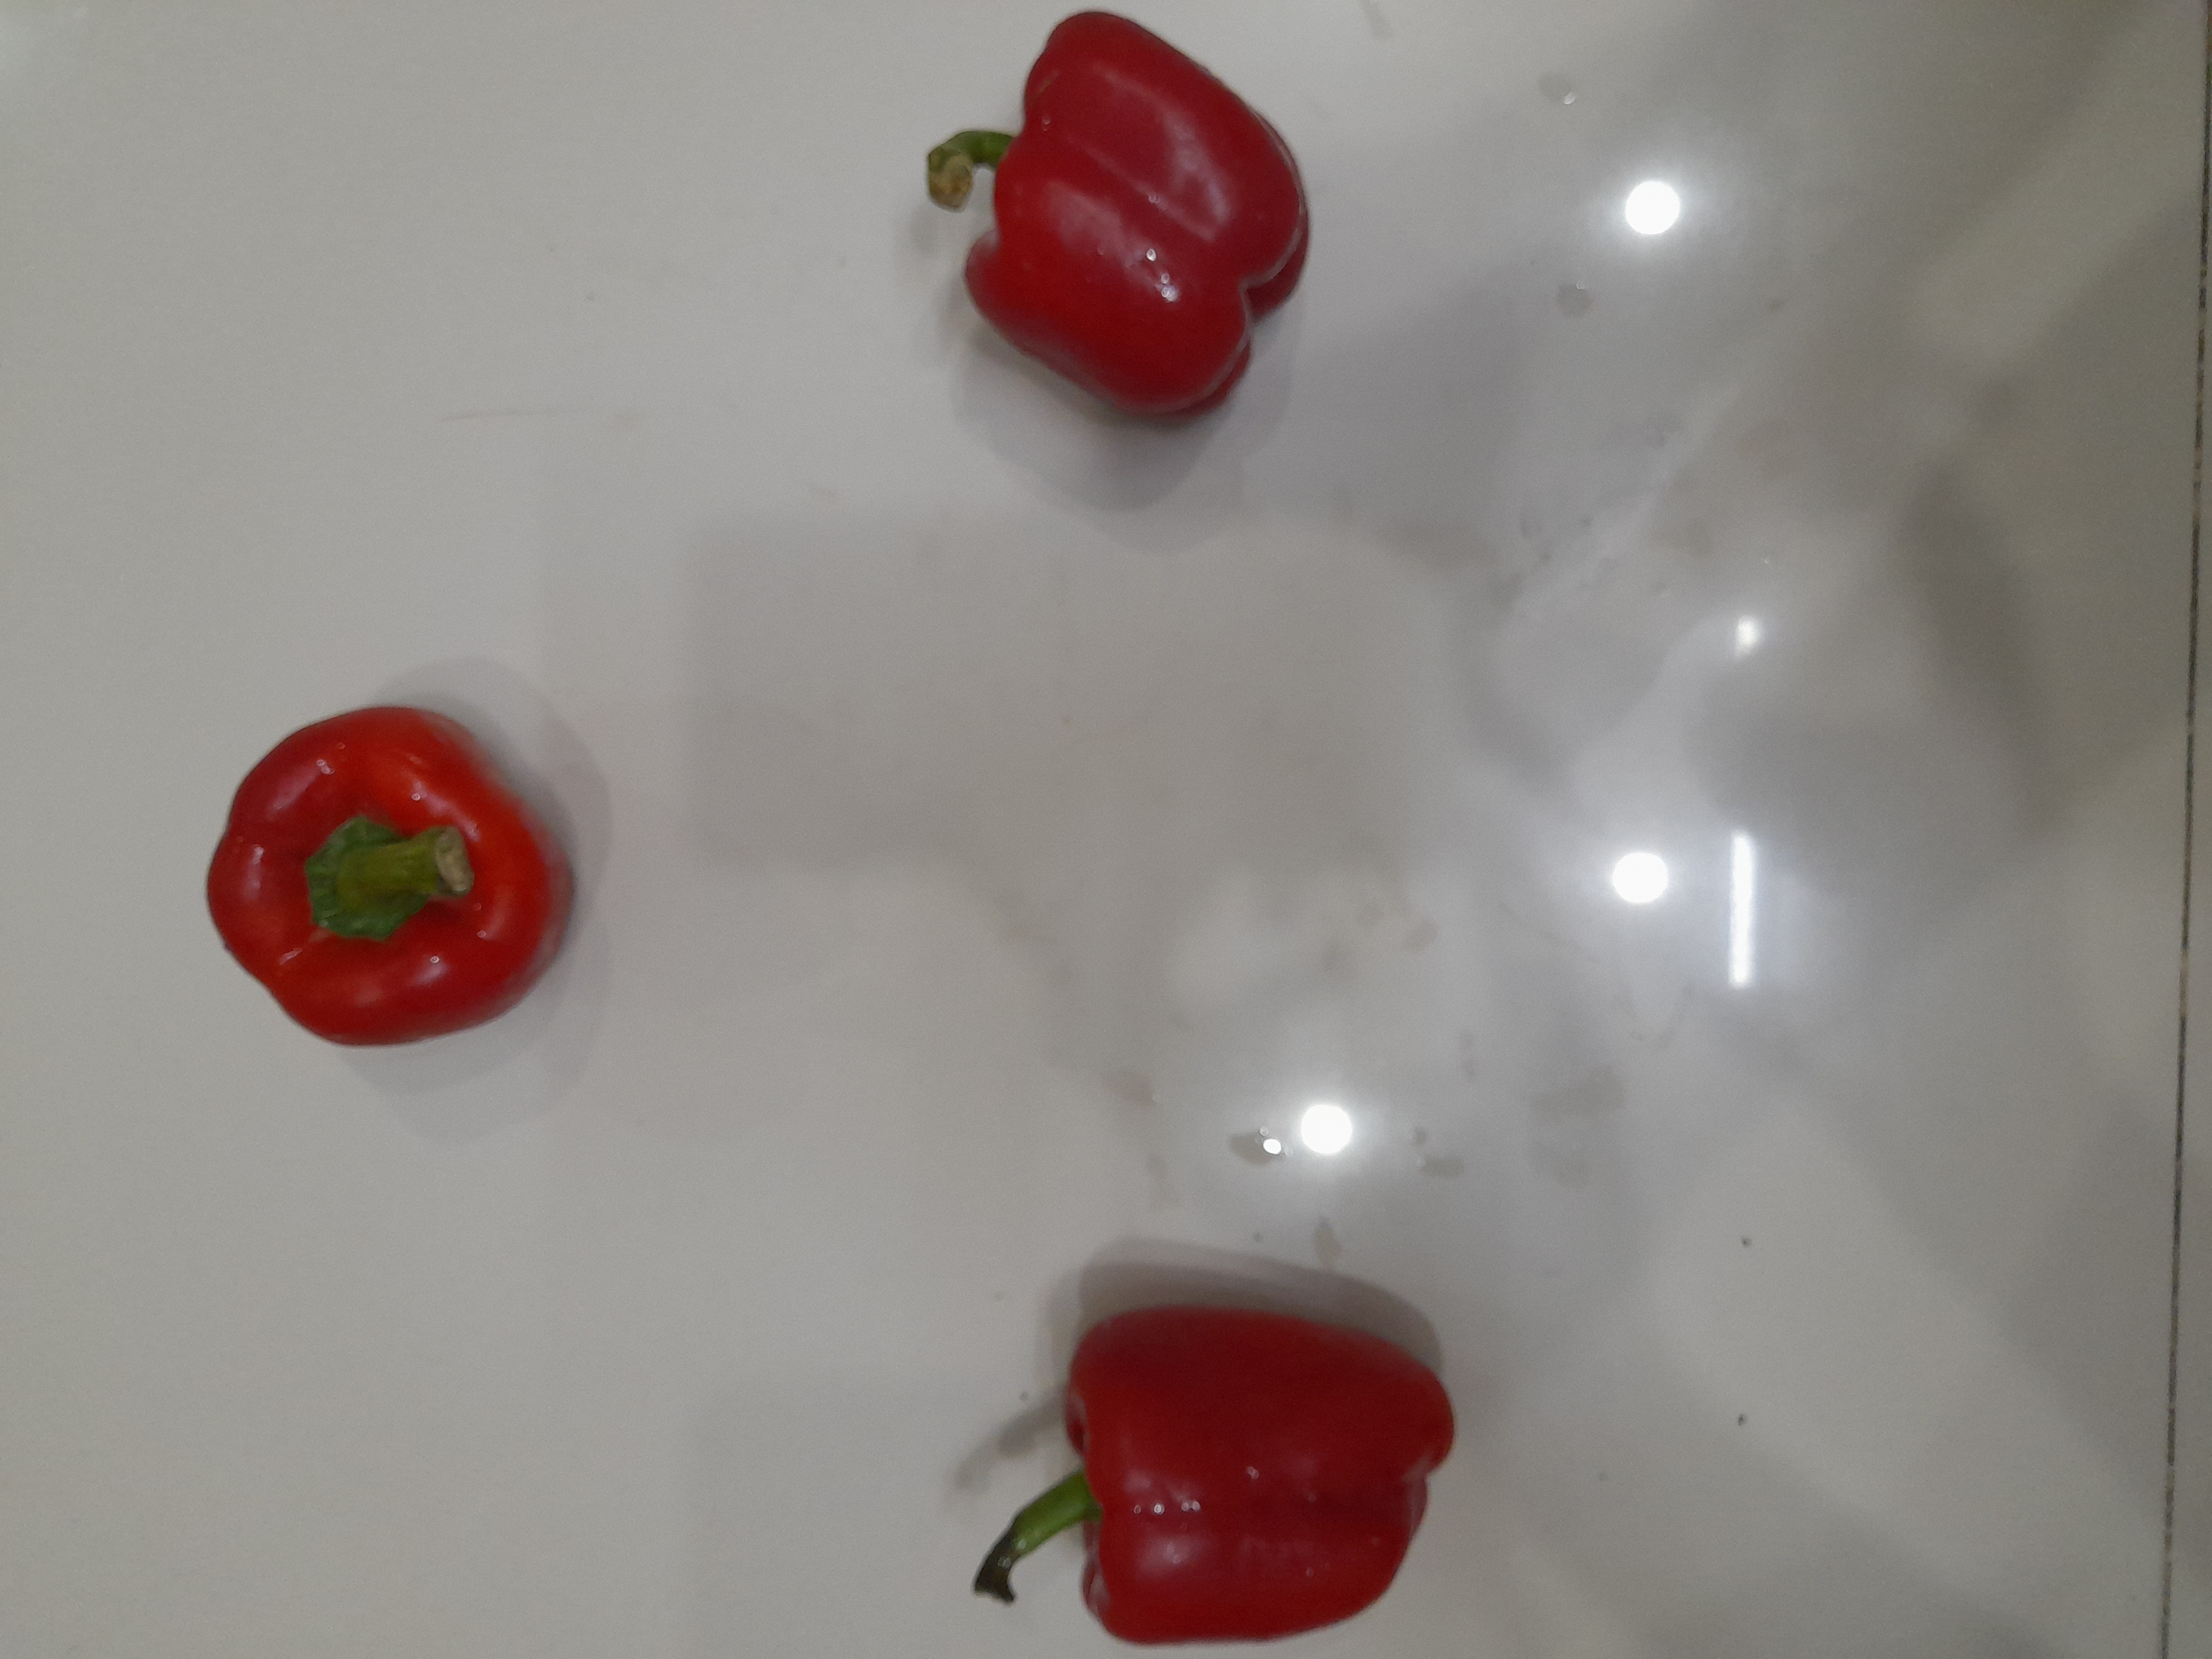Ot chuong: (977, 1303, 1458, 1649), (923, 7, 1317, 425), (197, 701, 552, 1056)
